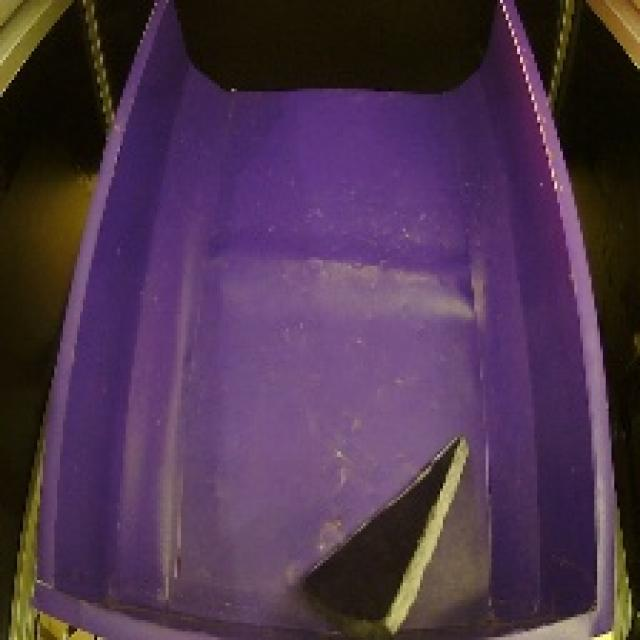china: (289, 427, 476, 640)
